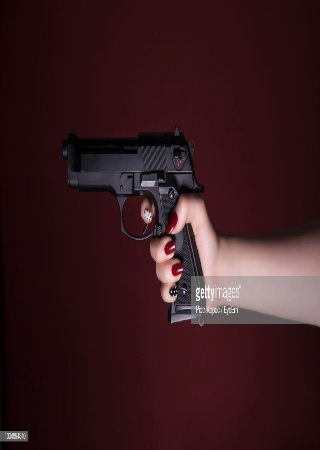handgun: (61, 125, 221, 328)
